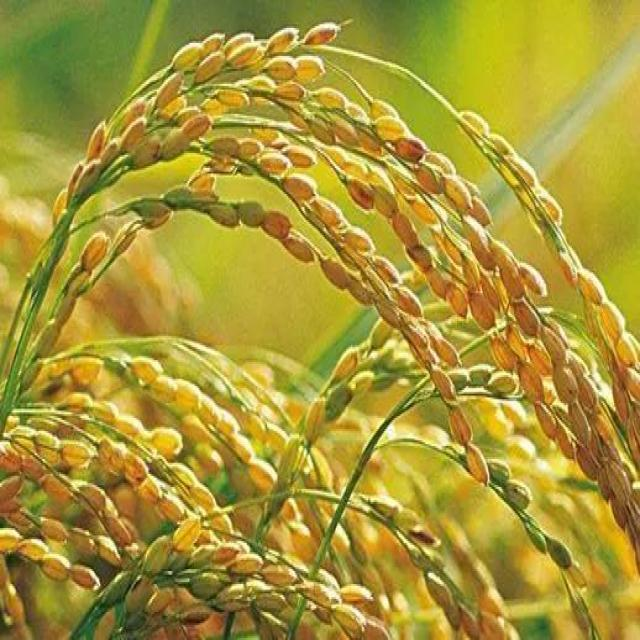Padi: (50, 22, 640, 410), (4, 296, 536, 628)
